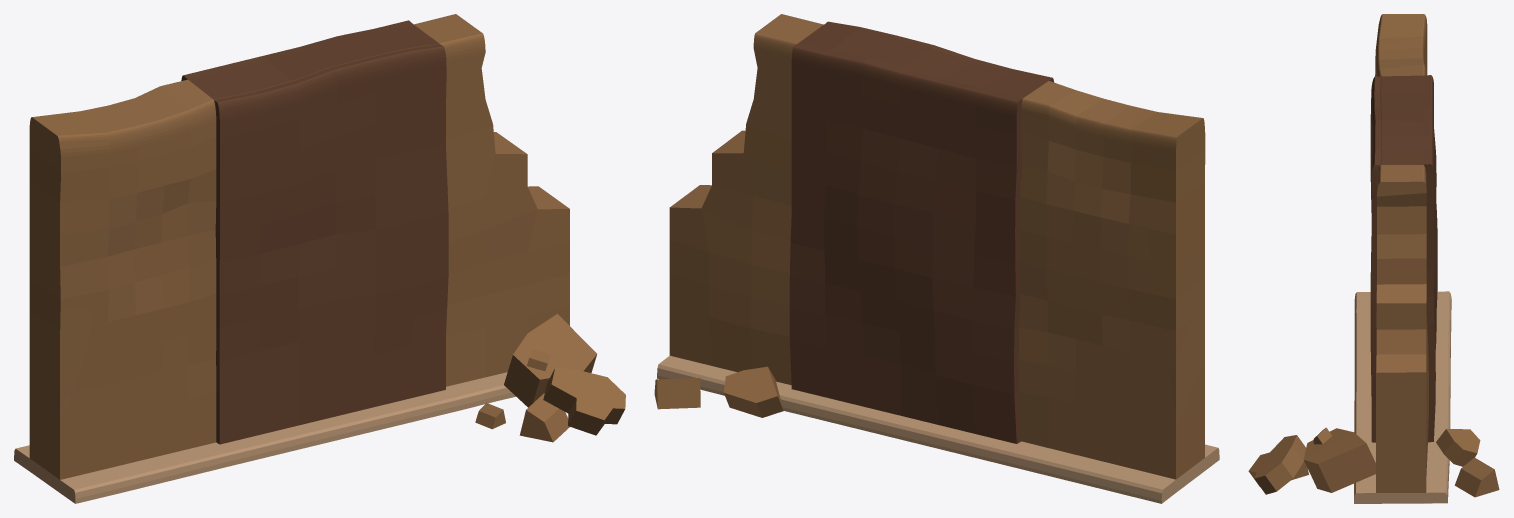
The model's file is Wall Mud-Wall_02.fbx.
The picture shows the model from 3 angles, left to right: view 1: azimuth 30°, elevation 25°; view 2: azimuth 150°, elevation 25°; view 3: azimuth 270°, elevation 25°; orthographic projection. The views are drawn at different scales.
Parts seen in each view (by area): view 1: Wall Mud-Wall_02; view 2: Wall Mud-Wall_02; view 3: Wall Mud-Wall_02.
Boxes of the visible parts, <box> form: Wall Mud-Wall_02: <box>14,14,625,503</box>; Wall Mud-Wall_02: <box>654,14,1219,503</box>; Wall Mud-Wall_02: <box>1248,14,1499,503</box>.
Size of the model in its own units: 519 by 351 by 273.
